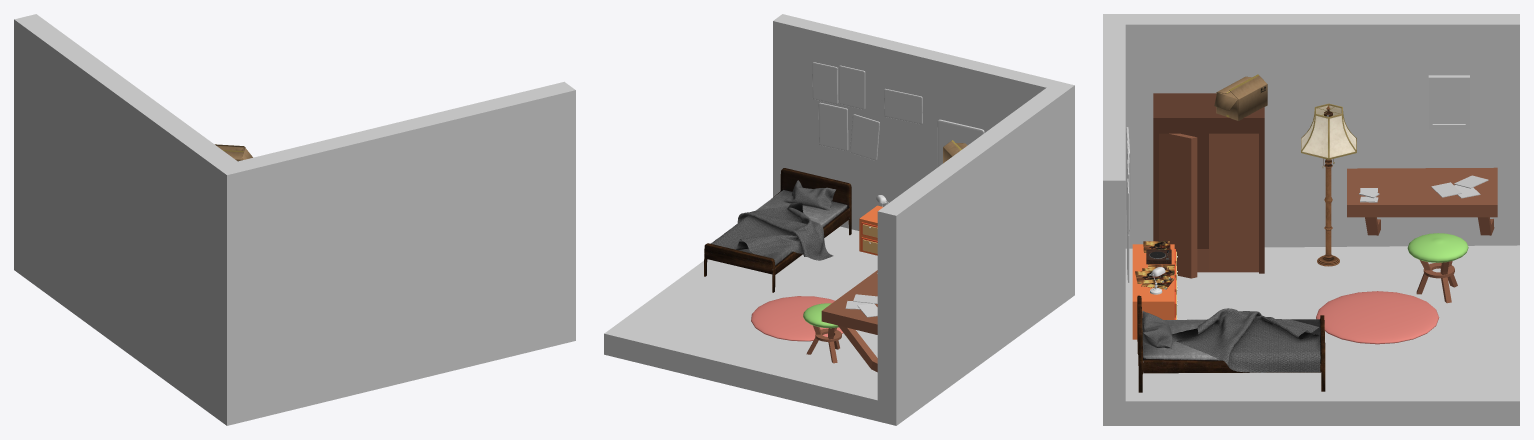
3 views of the same model, side by side, from view 1: azimuth 30°, elevation 25°; view 2: azimuth 150°, elevation 25°; view 3: azimuth 270°, elevation 25° (orthographic). The views are drawn at different scales.
Visible parts, largest first — view 1: House.002; view 2: House.002, bed, mat, table, pCube66, pCube67, pCube70, pCube65, chair, pCube69, pCube68, kast; view 3: House.002, kast.001, bed, table, mat, pCube77, chair, LampShade_LP, kast, Box, Rod_LP, recordplayer.
Part boxes in pixels (x1,y1,x2,y2): House.002: (14, 14, 575, 425); House.002: (604, 14, 1074, 425); bed: (704, 168, 851, 292); mat: (751, 296, 843, 341); table: (821, 270, 877, 372); pCube66: (818, 102, 848, 150); pCube67: (850, 114, 879, 160); pCube70: (884, 88, 922, 124); pCube65: (838, 65, 865, 109); chair: (803, 303, 841, 363); pCube69: (937, 119, 984, 167); pCube68: (812, 62, 838, 104); kast: (859, 205, 883, 255); House.002: (1103, 14, 1519, 425); kast.001: (1153, 93, 1264, 278); bed: (1137, 295, 1325, 392); table: (1347, 167, 1497, 235); mat: (1316, 291, 1439, 344); pCube77: (1428, 75, 1469, 129); chair: (1407, 233, 1468, 303); LampShade_LP: (1301, 103, 1356, 159); kast: (1132, 244, 1177, 339); Box: (1214, 74, 1267, 120); Rod_LP: (1317, 159, 1339, 266); recordplayer: (1146, 249, 1171, 264).
Bounding box in the file's own units: 0.3974 × 0.2729 × 0.42.
17 materials, 7 textured.
